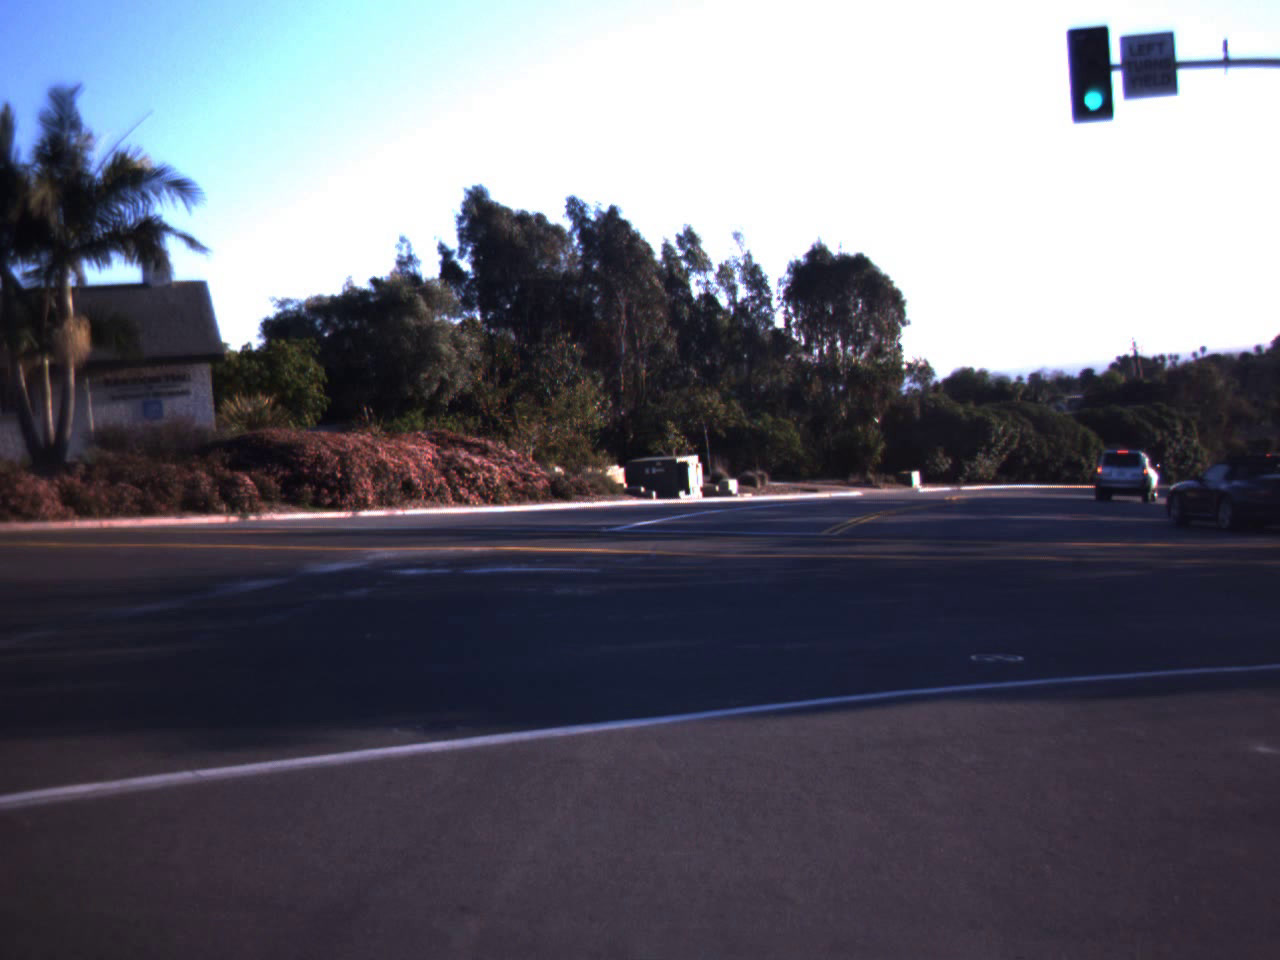go: (1068, 29, 1119, 119)
